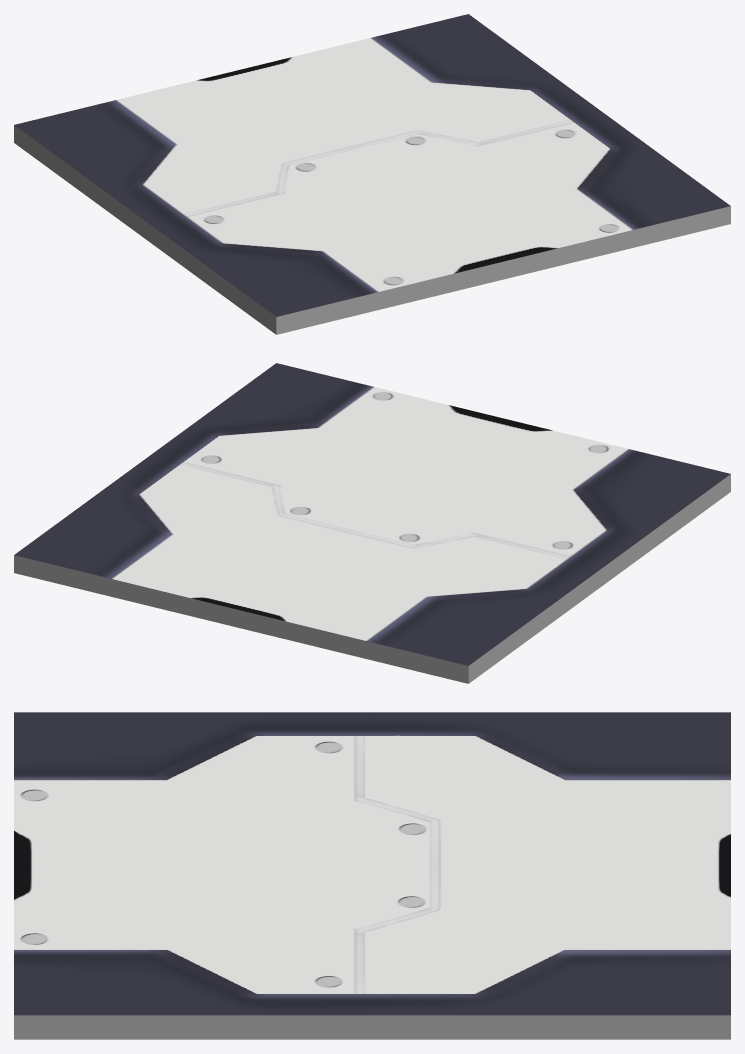
The model's file is floor_broken.FBX.
The picture shows the model from 3 angles, top to bottom: view 1: azimuth 30°, elevation 25°; view 2: azimuth 150°, elevation 25°; view 3: azimuth 270°, elevation 25°; orthographic projection. The views are drawn at different scales.
Visible parts, largest first — view 1: Plane014, Plane012, Plane007, Plane011, Plane008, Plane006, Plane009, Plane013, Plane010, Plane015, Plane005, Plane004; view 2: Plane007, Plane014, Plane011, Plane008, Plane013, Plane012, Plane009, Plane006, Plane010, Plane015, Plane004, Plane005; view 3: Plane007, Plane006, Plane011, Plane014, Plane008, Plane012, Plane009, Plane013, Plane004, Plane010, Plane005, Plane015.
Boxes of the visible parts, box(x1,y1,x2,y2) form: Plane014: box(79, 147, 297, 298); Plane012: box(298, 195, 528, 318); Plane007: box(227, 22, 495, 125); Plane011: box(208, 126, 429, 251); Plane008: box(315, 90, 544, 195); Plane006: box(545, 119, 730, 251); Plane009: box(430, 147, 619, 273); Plane013: box(14, 89, 207, 190); Plane010: box(159, 73, 314, 147); Plane015: box(227, 251, 340, 334); Plane005: box(496, 78, 611, 146); Plane004: box(437, 14, 556, 90); Plane007: box(45, 507, 320, 631); Plane014: box(417, 499, 681, 635); Plane011: box(321, 478, 585, 583); Plane008: box(157, 460, 404, 554); Plane013: box(324, 583, 533, 683); Plane012: box(406, 412, 665, 498); Plane009: box(249, 390, 477, 478); Plane006: box(157, 363, 387, 460); Plane010: box(256, 555, 416, 648); Plane015: box(586, 458, 730, 527); Plane004: box(14, 490, 156, 580); Plane005: box(102, 450, 247, 506); Plane007: box(498, 854, 730, 993); Plane006: box(14, 940, 339, 1039); Plane011: box(183, 767, 535, 871); Plane014: box(148, 712, 552, 793); Plane008: box(249, 861, 521, 976); Plane012: box(14, 755, 248, 880); Plane009: box(14, 872, 306, 962); Plane013: box(536, 712, 730, 808); Plane004: box(490, 977, 730, 1039); Plane010: box(522, 794, 730, 861); Plane005: box(307, 962, 497, 1039); Plane015: box(14, 712, 182, 767).
Bounding box in the file's own units: 400 × 15.1 × 400.
